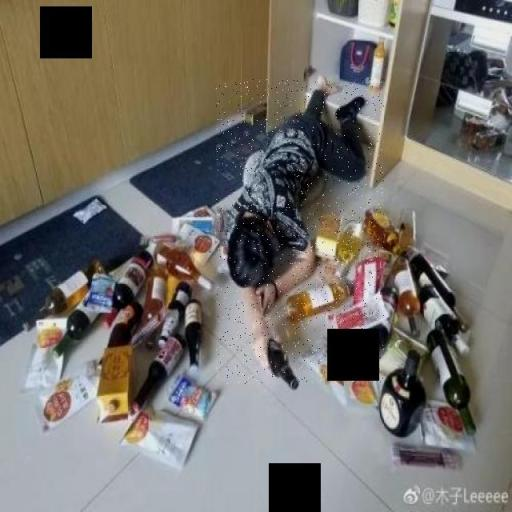Fall: (216, 79, 384, 384)
